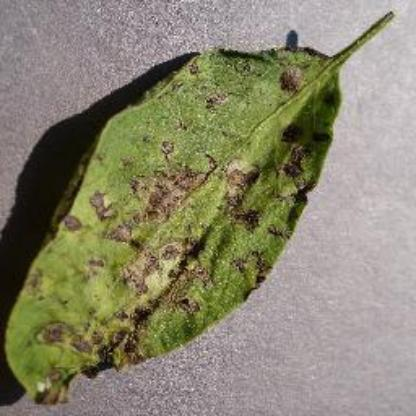Early-Blight: (9, 9, 409, 404)
